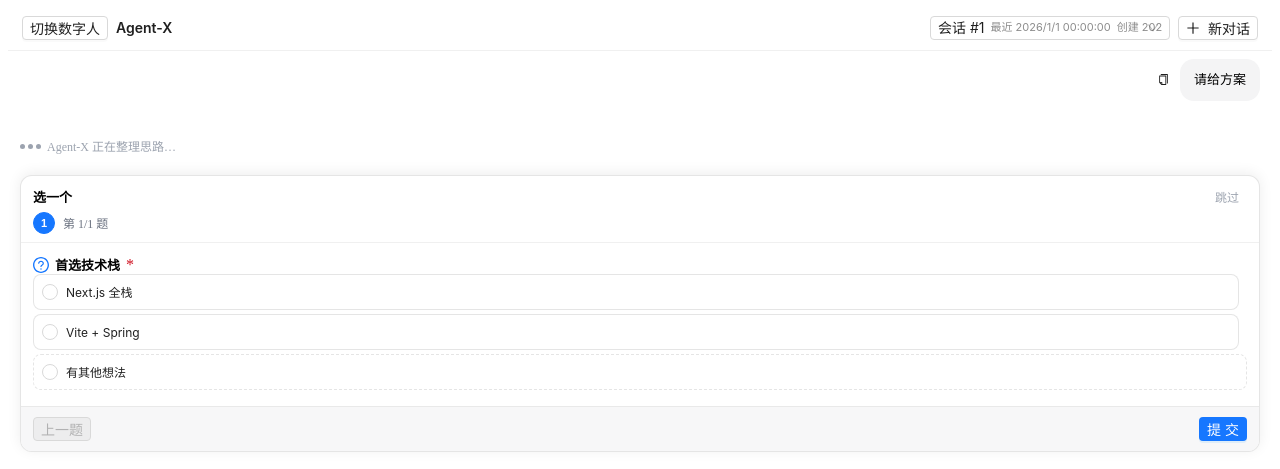
Test case: WorkitemClarificationPanel ACP 交互接线 › reports a transient reply failure and leaves the card answerable
Click the button with test id "elicitation-skip-req-1": x=1227, y=196 [1207,184,1247,208]
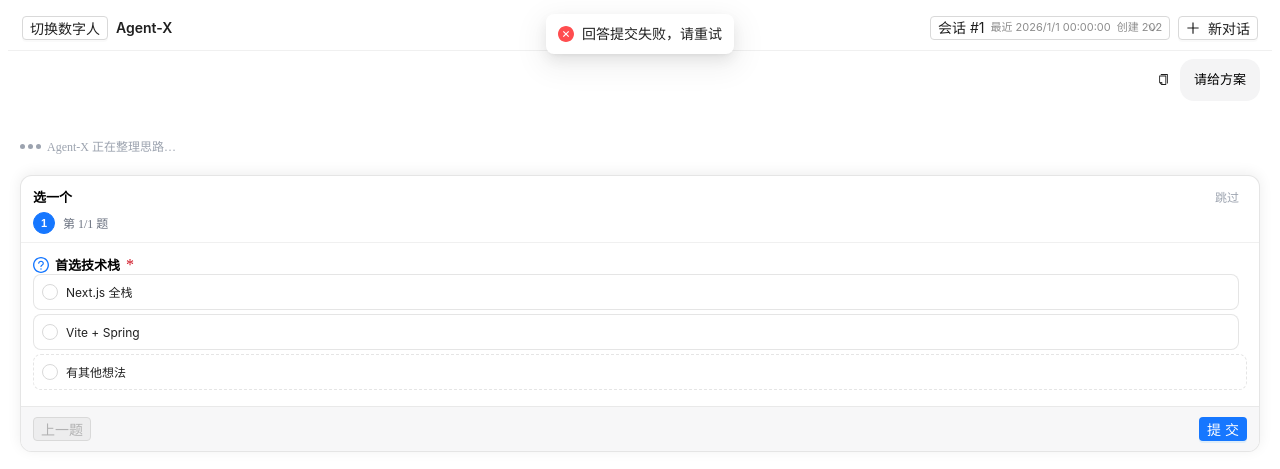
Expected: the text "回答提交失败，请重试" is shown, [582,23,722,45]
